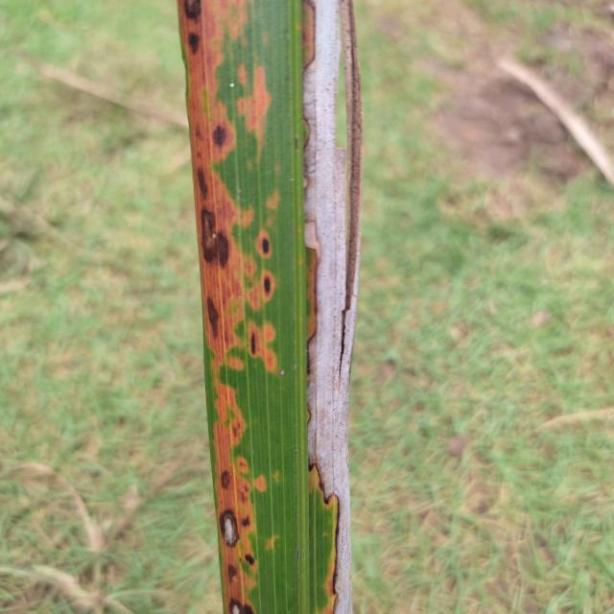Kalium: (176, 0, 368, 614)
